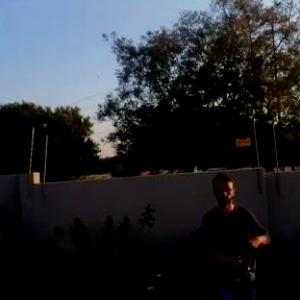follow: (196, 165, 275, 299)
